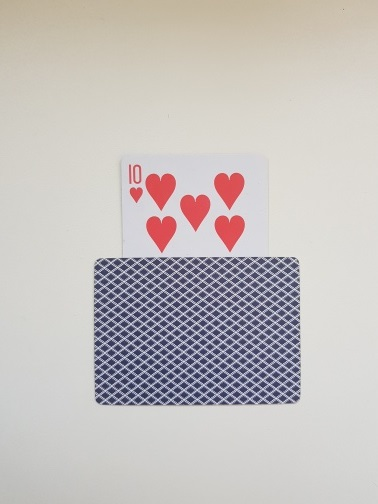ten: (119, 152, 270, 362)
